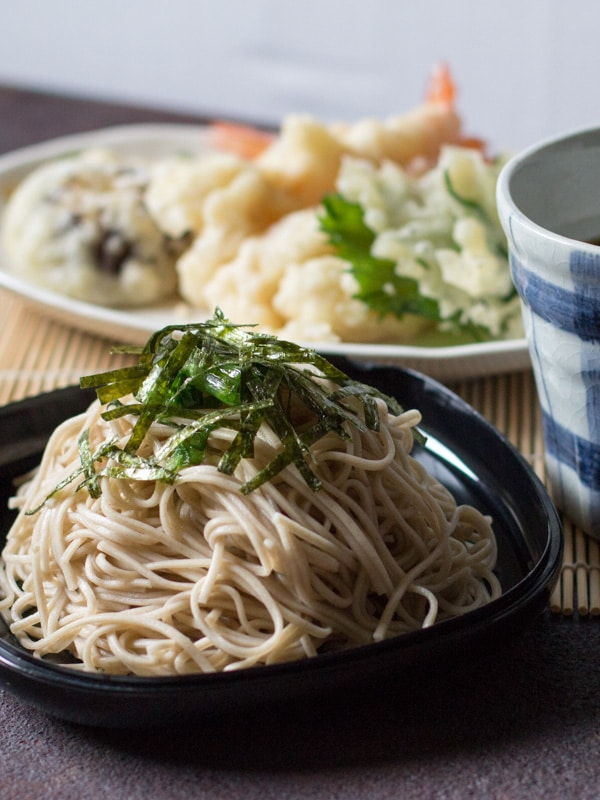Soba: (12, 373, 516, 667)
